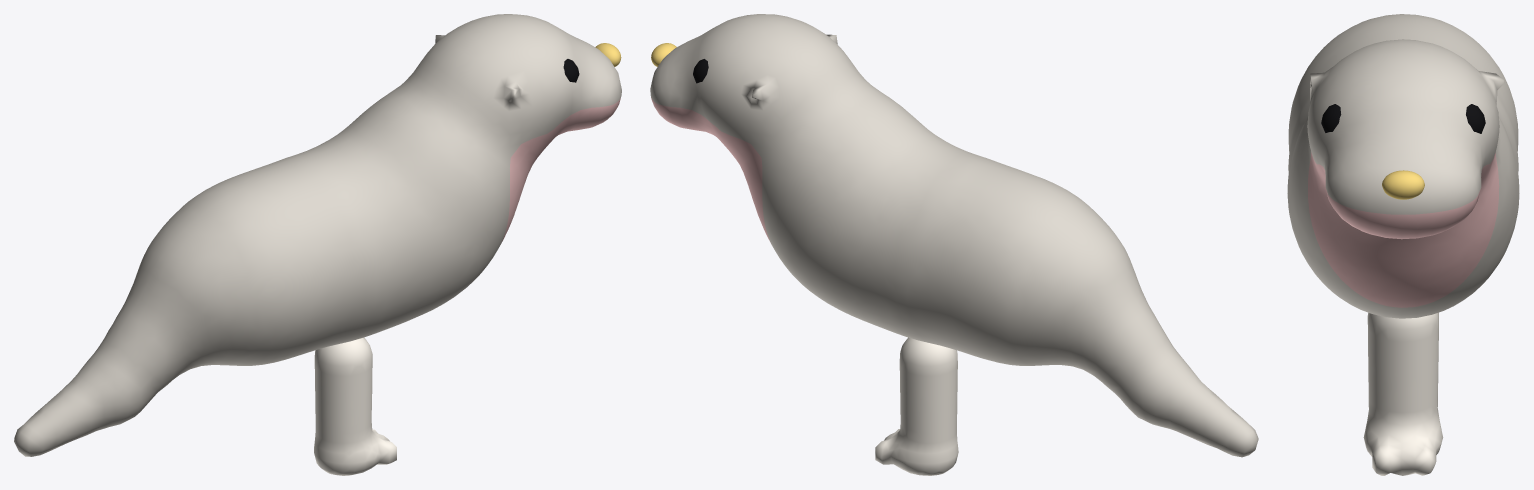
File: otter_adult.glb
The picture shows the model from 3 angles, left to right: view 1: azimuth 30°, elevation 25°; view 2: azimuth 150°, elevation 25°; view 3: azimuth 270°, elevation 25°; orthographic projection. The views are drawn at different scales.
Parts seen in each view (by area): view 1: body, leg; view 2: body, leg; view 3: body, leg, beak, eye.
Part boxes in pixels (x1,y1,x2,y2): body: [14, 14, 621, 456]; leg: [314, 337, 396, 475]; body: [650, 14, 1258, 457]; leg: [875, 337, 958, 475]; body: [1287, 14, 1519, 318]; leg: [1363, 312, 1443, 475]; beak: [1382, 170, 1424, 199]; eye: [1321, 104, 1485, 133].
Size of the model in its own units: 2.97 by 1.91 by 0.806.
